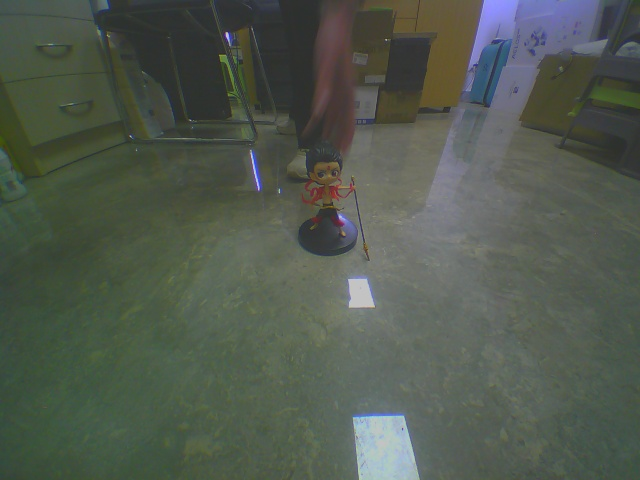Nezha: (281, 132, 395, 287)
